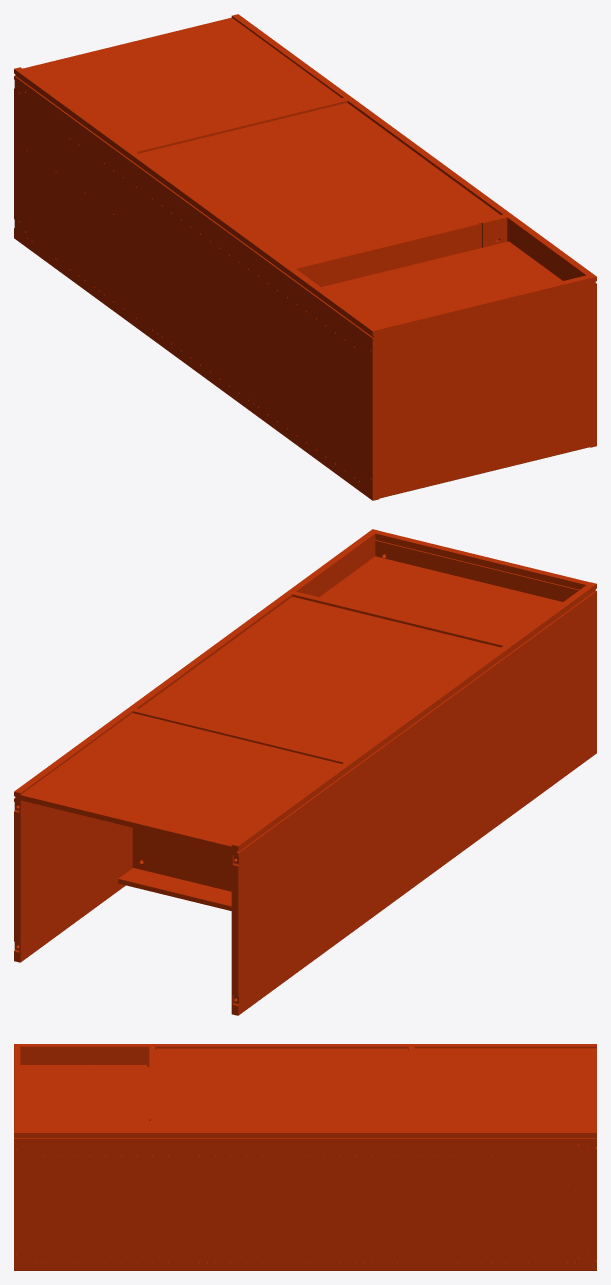
The model's file is NYCOIFH238.fbx-2 Separations.fbx.
The picture shows the model from 3 angles, top to bottom: view 1: azimuth 30°, elevation 25°; view 2: azimuth 150°, elevation 25°; view 3: azimuth 270°, elevation 25°; orthographic projection. The views are drawn at different scales.
Visible parts, largest first — view 1: Body11, Body9, Body7, Body6, Body3, Body10, Body12, Body8; view 2: Body11, Body7, Body6, Body10, Body3, Body9, Body8, Body4, Body12; view 3: Body10, Body7, Body6, Body3, Body11, Body8, Body9, Body12.
Boxes of the visible parts, bbox=[...] form: Body11: bbox=[14, 67, 379, 500]; Body9: bbox=[376, 275, 590, 498]; Body7: bbox=[139, 103, 500, 265]; Body6: bbox=[23, 17, 341, 149]; Body3: bbox=[321, 241, 562, 326]; Body10: bbox=[231, 14, 596, 447]; Body12: bbox=[292, 214, 507, 286]; Body8: bbox=[133, 98, 347, 153]; Body11: bbox=[231, 582, 596, 1015]; Body7: bbox=[139, 596, 500, 759]; Body6: bbox=[20, 713, 341, 851]; Body10: bbox=[14, 529, 378, 962]; Body3: bbox=[320, 556, 562, 642]; Body9: bbox=[375, 531, 589, 601]; Body8: bbox=[132, 708, 346, 891]; Body4: bbox=[118, 868, 231, 910]; Body12: bbox=[292, 591, 506, 647]; Body10: bbox=[14, 1130, 596, 1270]; Body7: bbox=[155, 1048, 408, 1130]; Body6: bbox=[414, 1048, 596, 1130]; Body3: bbox=[20, 1065, 149, 1130]; Body11: bbox=[14, 1044, 596, 1129]; Body8: bbox=[408, 1046, 414, 1130]; Body9: bbox=[14, 1046, 20, 1130]; Body12: bbox=[149, 1046, 155, 1130].
Size of the model in its own units: 860 by 622 by 2382.
